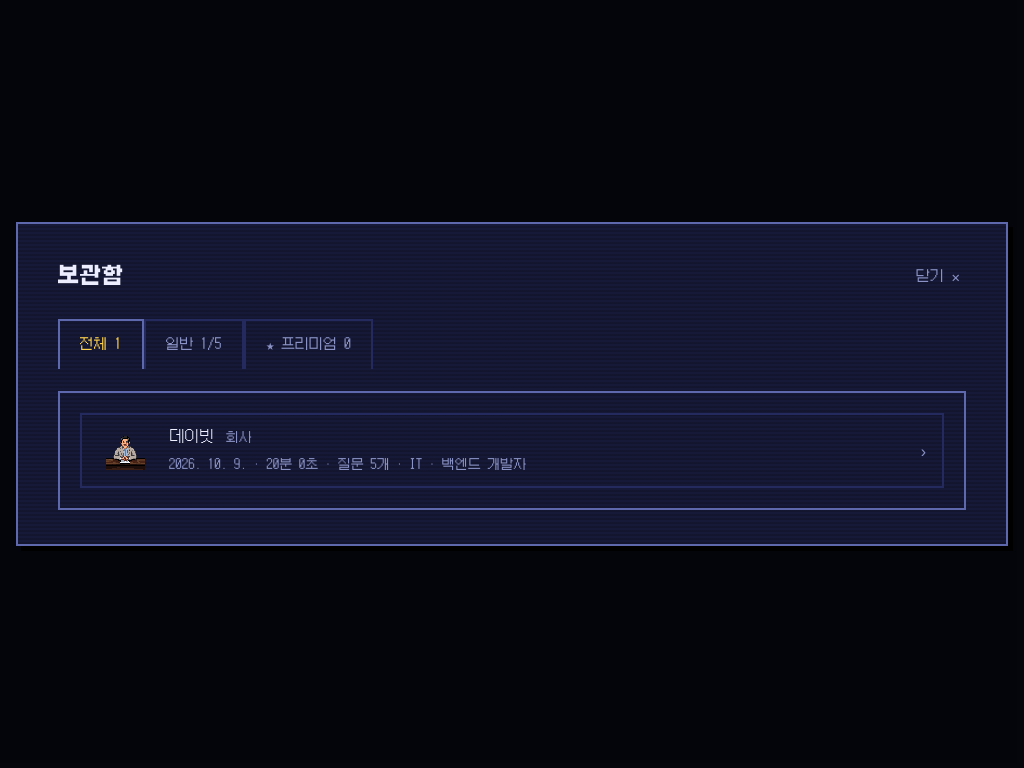
Test: ArchiveModal — 상세 › 버전 2로 남은 기록은 버전 2 카드로 다시 그린다
Click the button with test id "archive-row": (126, 451) [80, 413, 944, 488]
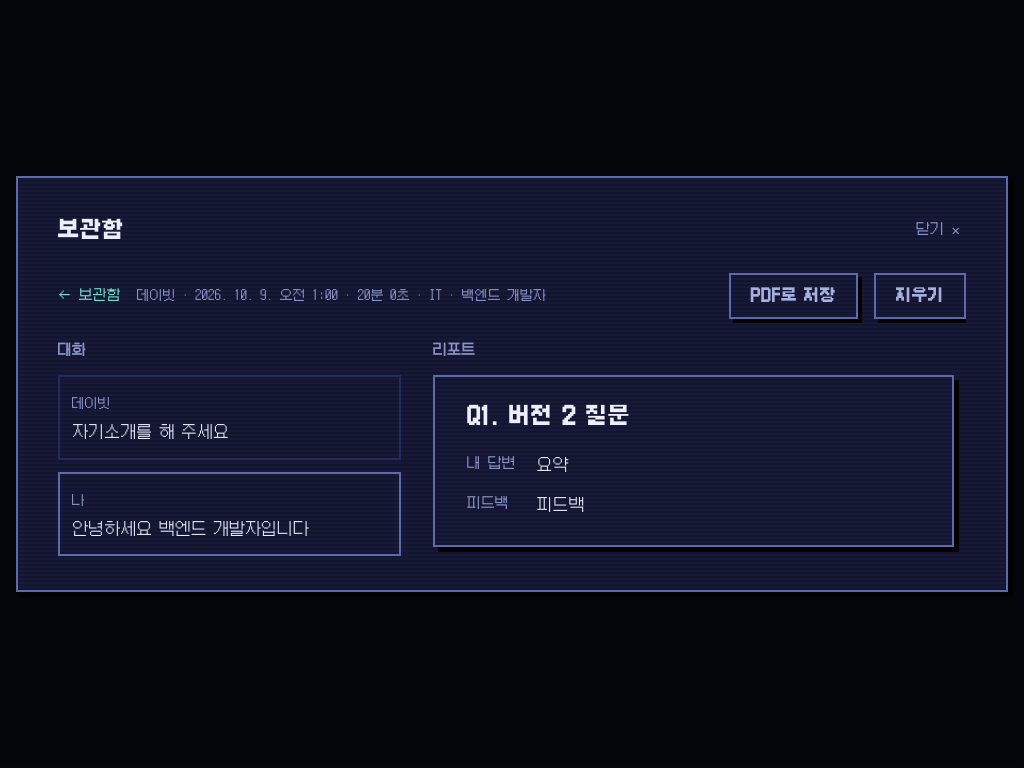
Now the number of elements with test id "v2-card" is 1, box [433, 375, 954, 547]
Now the element with test id "archive-detail" shows "버전 2 질문", box [467, 403, 630, 429]
